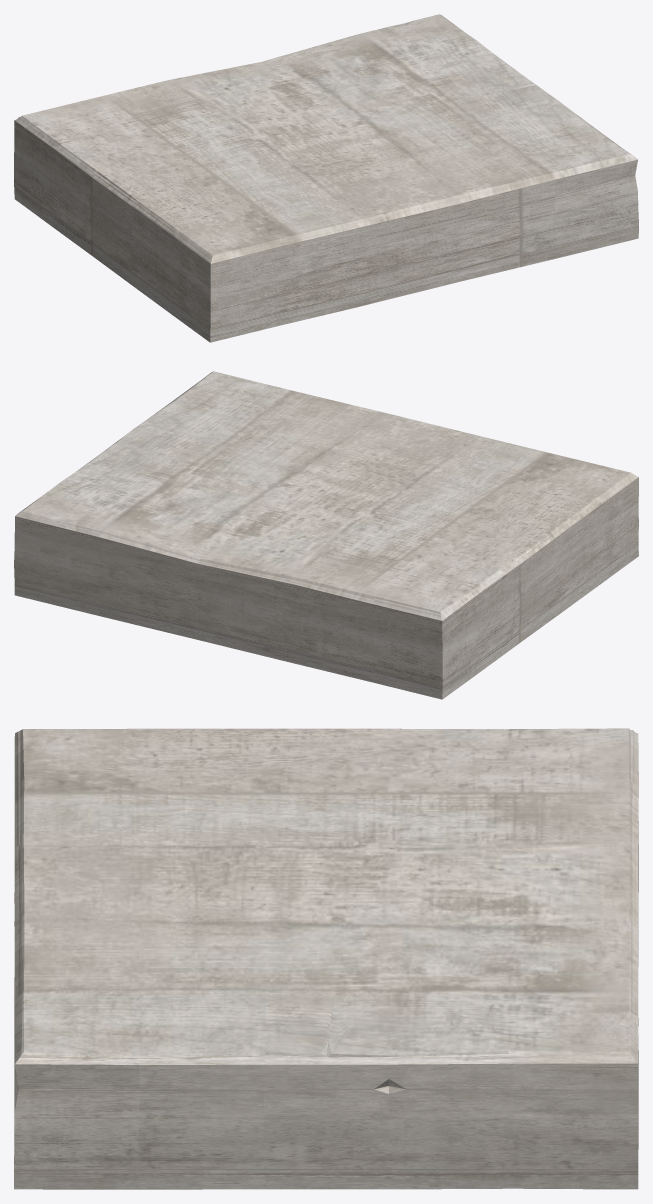
The model's file is BetonOe.glb.
The picture shows the model from 3 angles, top to bottom: view 1: azimuth 30°, elevation 25°; view 2: azimuth 150°, elevation 25°; view 3: azimuth 270°, elevation 25°; orthographic projection. The views are drawn at different scales.
Visible parts, largest first — view 1: BetonOe; view 2: BetonOe; view 3: BetonOe.
Part boxes in pixels (x1,y1,x2,y2): BetonOe: (14, 14, 638, 342); BetonOe: (14, 371, 638, 699); BetonOe: (14, 728, 638, 1189).
Size of the model in its own units: 2.52 by 0.4794 by 2.01.
Materials: 1 (1 with a texture image).
